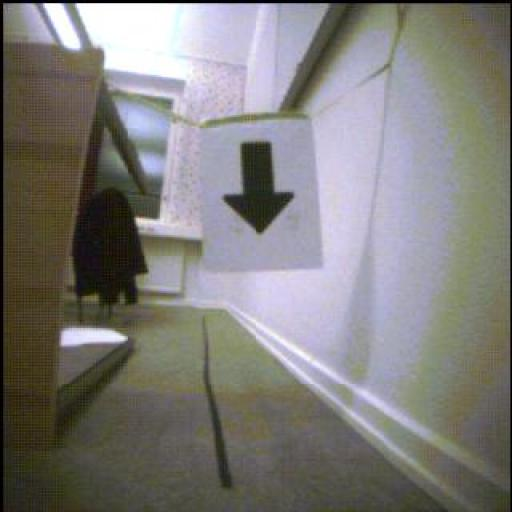arrow: (225, 142, 295, 235)
